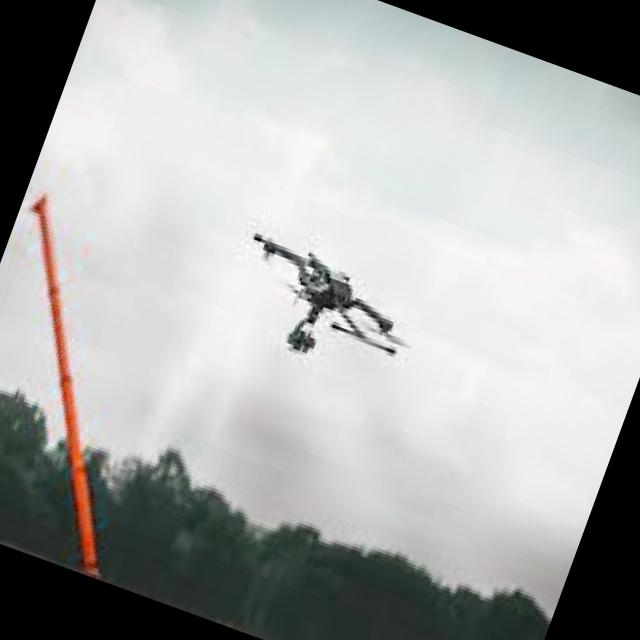drone: (209, 199, 443, 401)
